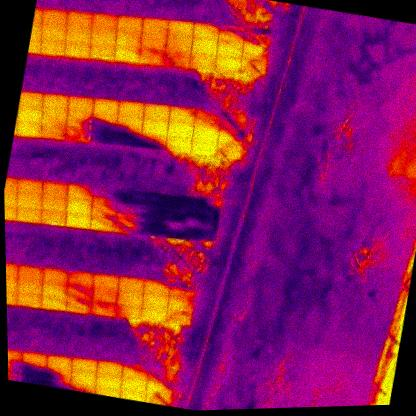Hotspot: (87, 40, 117, 62), (39, 207, 68, 228), (164, 308, 192, 329), (15, 290, 43, 310), (167, 295, 194, 315)
Normal: (187, 137, 218, 160), (65, 93, 95, 116), (141, 100, 172, 122), (213, 53, 242, 76), (90, 96, 120, 118), (64, 194, 94, 216), (140, 116, 169, 138), (15, 176, 44, 198), (14, 189, 43, 211), (190, 34, 219, 56), (164, 31, 193, 53), (139, 30, 168, 52), (64, 22, 93, 44), (38, 36, 67, 57), (164, 134, 193, 155), (40, 192, 69, 213), (63, 209, 92, 230), (91, 271, 120, 292), (115, 288, 144, 309), (89, 25, 118, 46), (18, 89, 44, 112), (64, 38, 91, 60), (117, 99, 145, 120), (41, 92, 69, 113), (191, 123, 219, 144), (117, 275, 145, 296), (115, 13, 143, 34), (115, 27, 143, 48), (39, 21, 67, 42), (70, 355, 99, 375), (39, 107, 67, 127), (14, 118, 42, 138), (41, 178, 69, 198), (14, 204, 42, 224), (143, 278, 171, 298), (41, 266, 69, 286), (16, 263, 44, 283), (39, 280, 67, 300), (15, 277, 43, 297), (141, 15, 169, 35), (65, 8, 93, 28), (216, 39, 244, 59), (167, 120, 194, 140), (141, 292, 168, 312), (140, 304, 167, 324), (40, 293, 67, 313), (90, 11, 117, 31), (41, 7, 68, 27), (95, 358, 123, 377), (119, 375, 147, 394), (69, 368, 97, 387), (114, 44, 140, 64), (45, 352, 72, 371), (189, 51, 216, 70), (167, 19, 195, 37), (17, 105, 43, 124), (21, 349, 48, 367), (95, 372, 122, 390), (6, 260, 19, 280), (8, 346, 23, 363), (6, 274, 18, 293), (6, 287, 17, 306)
Shadow: (216, 124, 245, 147), (167, 104, 197, 126), (87, 212, 117, 234), (167, 280, 197, 302), (89, 285, 119, 307), (193, 108, 222, 130), (115, 114, 144, 136), (115, 199, 144, 221), (66, 268, 95, 290), (217, 22, 246, 44), (63, 124, 93, 145), (113, 215, 143, 236), (218, 110, 247, 131), (164, 220, 193, 241), (191, 20, 220, 41), (138, 46, 167, 67), (88, 299, 118, 319), (65, 110, 93, 131), (139, 131, 167, 152), (113, 130, 141, 151), (88, 126, 116, 147), (164, 49, 192, 70), (214, 141, 243, 161), (193, 195, 222, 215), (142, 190, 171, 210), (116, 186, 145, 206), (191, 210, 220, 230), (65, 283, 94, 303), (140, 205, 170, 224), (90, 112, 118, 132), (168, 192, 196, 212), (91, 183, 119, 203), (166, 207, 194, 227), (139, 219, 167, 239), (243, 27, 271, 47), (146, 365, 174, 385), (89, 198, 118, 217), (114, 301, 143, 320), (121, 362, 148, 382), (239, 58, 266, 78), (39, 122, 67, 141), (241, 43, 269, 62), (66, 182, 93, 201), (190, 225, 217, 244), (65, 297, 92, 316), (145, 379, 172, 398), (43, 366, 72, 383), (20, 361, 46, 378), (8, 359, 22, 376)
